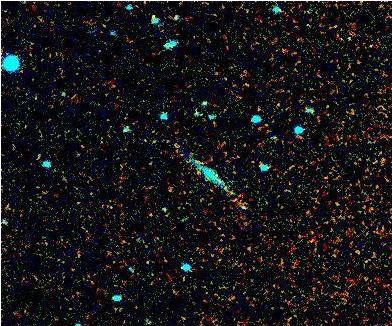star: (231, 194, 261, 224)
